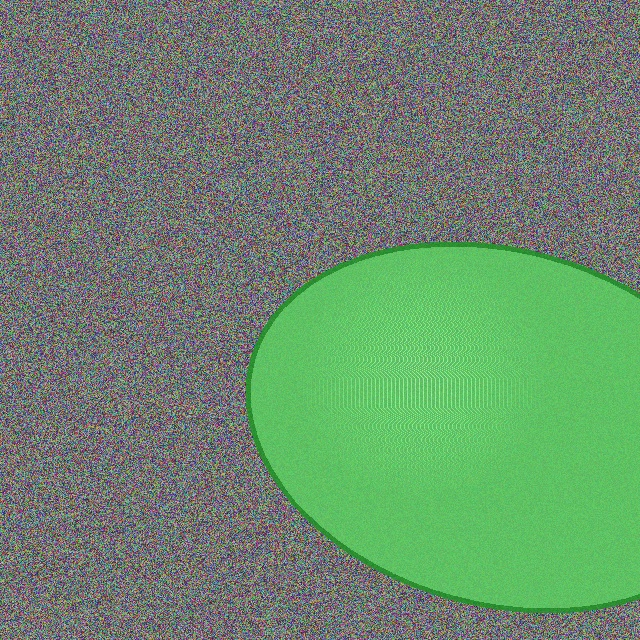lens: (248, 245, 640, 609)
